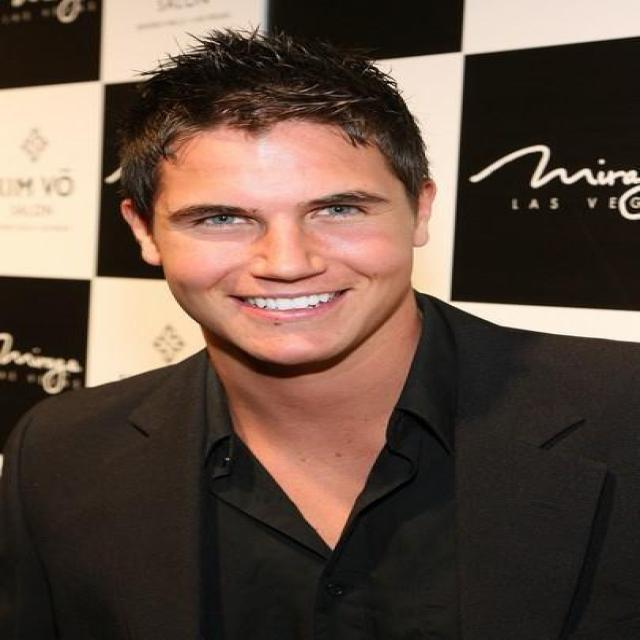0_rostro_limpio: (124, 80, 438, 372)
